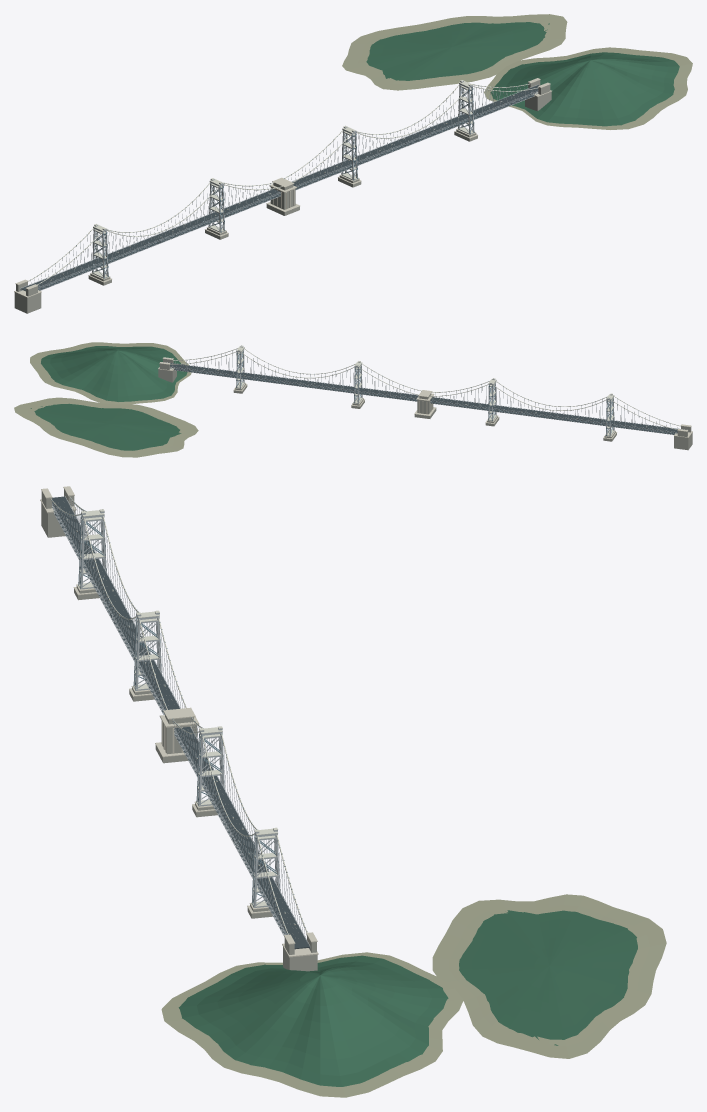
File: bay-bridge.glb
3 views of the same model, one above another, from view 1: azimuth 30°, elevation 25°; view 2: azimuth 150°, elevation 25°; view 3: azimuth 270°, elevation 25° (orthographic). The views are drawn at different scales.
Parts seen in each view (by area): view 1: Yerba Buena / low wooded eastern shore / Yerba Buena wooded , Treasure Island / flat green reclaimed land / Yerba Buena wo, Treasure Island / low distant reclaimed shore / island shore, Yerba Buena / tide line and rocky apron / island shoreline, Span 2 / double-deck structure / asphalt and dark deck reces, Span 4 / double-deck structure / asphalt and dark deck reces, Span 1 / double-deck structure / asphalt and dark deck reces, Span 3 / double-deck structure / asphalt and dark deck reces, West anchorage / deck approach / weathered concrete piers, Span 2 / double-deck structure / silver painted steel, Span 1 / double-deck structure / silver painted steel, Span 4 / double-deck structure / silver painted steel (+9 smaller); view 2: Yerba Buena / low wooded eastern shore / Yerba Buena wooded , Treasure Island / flat green reclaimed land / Yerba Buena wo, Treasure Island / low distant reclaimed shore / island shore, Yerba Buena / tide line and rocky apron / island shoreline, Span 2 / double-deck structure / asphalt and dark deck reces, Span 4 / double-deck structure / asphalt and dark deck reces, Span 3 / double-deck structure / asphalt and dark deck reces, Span 1 / double-deck structure / asphalt and dark deck reces, Span 1 / double-deck structure / silver painted steel, Span 2 / double-deck structure / silver painted steel, Span 4 / double-deck structure / silver painted steel, Span 3 / double-deck structure / silver painted steel (+12 smaller); view 3: Yerba Buena / low wooded eastern shore / Yerba Buena wooded , Treasure Island / flat green reclaimed land / Yerba Buena wo, Treasure Island / low distant reclaimed shore / island shore, Yerba Buena / tide line and rocky apron / island shoreline, Span 1 / double-deck structure / asphalt and dark deck reces, Span 4 / double-deck structure / asphalt and dark deck reces, Span 3 / double-deck structure / asphalt and dark deck reces, Span 2 / double-deck structure / asphalt and dark deck reces, Suspension segment 5 / paired cables and hangers / silver pa, Suspension segment 2 / paired cables and hangers / silver pa.
Part boxes in pixels (x1,y1,x2,y2): Yerba Buena / low wooded eastern shore / Yerba Buena wooded : (490,52,679,126); Treasure Island / flat green reclaimed land / Yerba Buena wo: (366,22,549,80); Treasure Island / low distant reclaimed shore / island shore: (342,14,567,90); Yerba Buena / tide line and rocky apron / island shoreline: (484,47,692,129); Span 2 / double-deck structure / asphalt and dark deck reces: (150,189,280,243); Span 4 / double-deck structure / asphalt and dark deck reces: (409,85,539,142); Span 1 / double-deck structure / asphalt and dark deck reces: (21,238,157,291); Span 3 / double-deck structure / asphalt and dark deck reces: (292,136,415,189); West anchorage / deck approach / weathered concrete piers: (14,281,41,313); Span 2 / double-deck structure / silver painted steel: (150,189,280,244); Span 1 / double-deck structure / silver painted steel: (20,237,157,290); Span 4 / double-deck structure / silver painted steel: (409,84,537,142); Yerba Buena / low wooded eastern shore / Yerba Buena wooded : (41,346,187,401); Treasure Island / flat green reclaimed land / Yerba Buena wo: (30,403,181,450); Treasure Island / low distant reclaimed shore / island shore: (14,397,198,457); Yerba Buena / tide line and rocky apron / island shoreline: (30,342,191,404); Span 2 / double-deck structure / asphalt and dark deck reces: (430,397,556,419); Span 4 / double-deck structure / asphalt and dark deck reces: (170,363,295,385); Span 3 / double-deck structure / asphalt and dark deck reces: (294,379,418,401); Span 1 / double-deck structure / asphalt and dark deck reces: (555,413,677,434); Span 1 / double-deck structure / silver painted steel: (555,413,688,434); Span 2 / double-deck structure / silver painted steel: (430,397,555,419); Span 4 / double-deck structure / silver painted steel: (166,362,295,385); Span 3 / double-deck structure / silver painted steel: (294,379,416,401); Yerba Buena / low wooded eastern shore / Yerba Buena wooded : (178,955,448,1086); Treasure Island / flat green reclaimed land / Yerba Buena wo: (459,910,637,1045); Treasure Island / low distant reclaimed shore / island shore: (432,894,666,1058); Yerba Buena / tide line and rocky apron / island shoreline: (161,952,463,1097); Span 1 / double-deck structure / asphalt and dark deck reces: (52,496,125,615); Span 4 / double-deck structure / asphalt and dark deck reces: (233,834,309,949); Span 3 / double-deck structure / asphalt and dark deck reces: (174,727,247,840); Span 2 / double-deck structure / asphalt and dark deck reces: (110,609,179,714); Suspension segment 5 / paired cables and hangers / silver pa: (202,736,271,871); Suspension segment 2 / paired cables and hangers / silver pa: (85,526,154,653).
Size of the model in its own units: 2375 by 165 by 1093.
